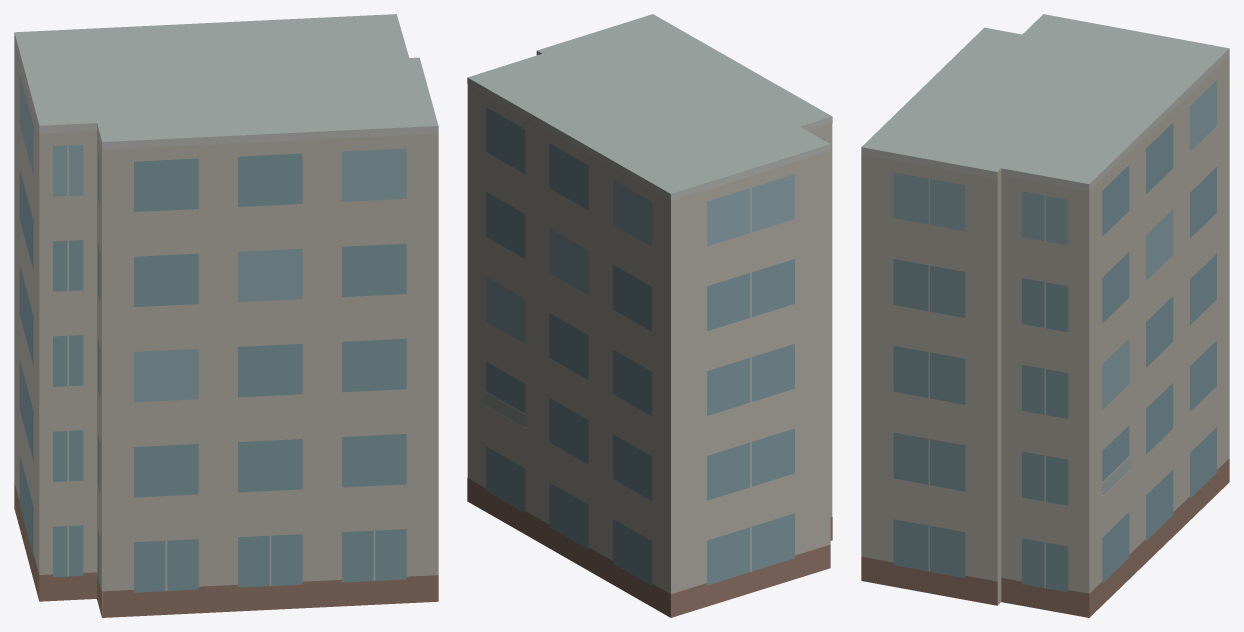
Rendered from survey-upis-33029773.glb.
The picture shows the model from 3 angles, left to right: view 1: azimuth 30°, elevation 25°; view 2: azimuth 150°, elevation 25°; view 3: azimuth 270°, elevation 25°; orthographic projection. The views are drawn at different scales.
Visible parts, largest first — view 1: survey-upis-33029773.tmp; view 2: survey-upis-33029773.tmp; view 3: survey-upis-33029773.tmp.
Boxes of the visible parts, box(x1,y1,x2,y2) form: survey-upis-33029773.tmp: box(14, 14, 438, 617); survey-upis-33029773.tmp: box(467, 14, 832, 617); survey-upis-33029773.tmp: box(861, 14, 1229, 617).
Size of the model in its own units: 12.67 by 15.05 by 11.59.
